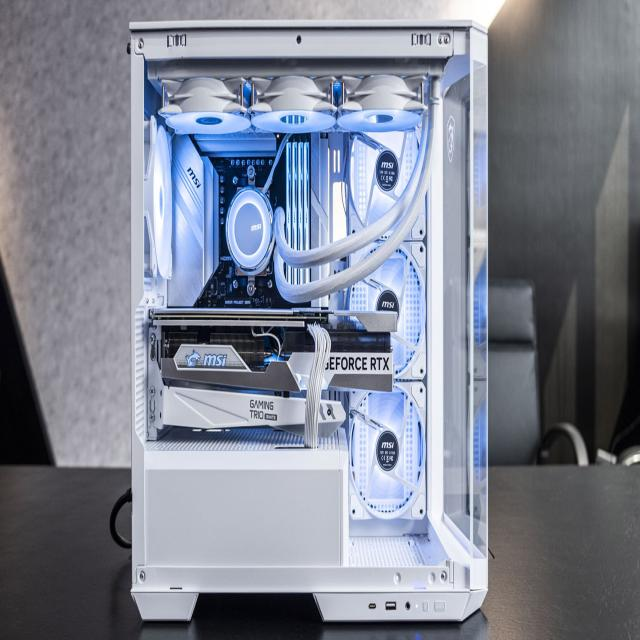electronics: (130, 21, 488, 620), (145, 386, 348, 567), (147, 308, 396, 444), (145, 427, 348, 588), (274, 103, 436, 302), (149, 308, 396, 393), (274, 171, 428, 302), (195, 133, 309, 308), (348, 382, 429, 567), (348, 242, 426, 379), (348, 243, 425, 379), (349, 383, 425, 519), (345, 130, 427, 238), (166, 135, 217, 306), (344, 129, 419, 229), (469, 129, 488, 495), (164, 386, 305, 435), (348, 129, 418, 225), (321, 313, 396, 390), (157, 327, 281, 372), (337, 73, 426, 132), (337, 73, 424, 132), (159, 76, 249, 133), (159, 78, 250, 134), (248, 75, 336, 132), (252, 75, 335, 133), (469, 131, 488, 379), (469, 133, 488, 379), (144, 117, 173, 277), (291, 309, 396, 353), (305, 133, 343, 252), (224, 185, 273, 274), (303, 323, 336, 447), (149, 126, 172, 277), (284, 140, 311, 251), (193, 130, 277, 159), (133, 568, 175, 619), (472, 379, 487, 520), (252, 108, 335, 133), (165, 111, 250, 135), (338, 108, 420, 132), (172, 344, 240, 372), (283, 329, 317, 384), (473, 257, 488, 377), (254, 110, 332, 132), (262, 133, 291, 192), (473, 380, 487, 491), (473, 260, 487, 345), (316, 401, 345, 438), (473, 132, 487, 207), (474, 399, 486, 484), (282, 323, 314, 353), (338, 229, 372, 255), (404, 201, 425, 239), (608, 446, 640, 466), (165, 578, 193, 600), (134, 591, 155, 617), (306, 261, 333, 281), (328, 79, 346, 105), (405, 216, 425, 239), (287, 267, 310, 283), (333, 149, 341, 174), (312, 295, 328, 307), (381, 225, 396, 236), (167, 338, 186, 344), (431, 79, 439, 92), (187, 347, 197, 357), (274, 571, 283, 580), (275, 220, 281, 233), (247, 168, 252, 182), (476, 500, 484, 507), (324, 78, 332, 84), (370, 245, 378, 251), (120, 536, 126, 543), (329, 313, 333, 323), (276, 220, 279, 233), (336, 206, 339, 217), (339, 188, 343, 196), (368, 367, 375, 370), (168, 421, 174, 424), (289, 584, 295, 587), (336, 216, 340, 220), (363, 369, 367, 373), (280, 583, 284, 587), (158, 316, 161, 321), (280, 239, 283, 244), (372, 245, 375, 249), (299, 303, 304, 305), (156, 292, 159, 295), (384, 367, 387, 370), (356, 256, 359, 259), (138, 568, 141, 571), (304, 303, 308, 305), (163, 370, 165, 374), (371, 225, 373, 228), (600, 454, 603, 456), (340, 420, 343, 422), (307, 163, 308, 166), (609, 454, 612, 455), (484, 409, 485, 412), (205, 389, 208, 390), (209, 328, 212, 329), (185, 318, 186, 321), (340, 412, 341, 415), (484, 505, 485, 507), (309, 224, 310, 226), (409, 386, 410, 388), (340, 415, 341, 417), (188, 611, 190, 612), (214, 347, 215, 348), (483, 487, 484, 488), (280, 216, 281, 217), (391, 600, 392, 601), (329, 165, 330, 166), (152, 297, 152, 299), (150, 162, 150, 164), (205, 162, 205, 164), (419, 528, 419, 530), (336, 233, 337, 233), (156, 587, 156, 588), (134, 542, 135, 542)
